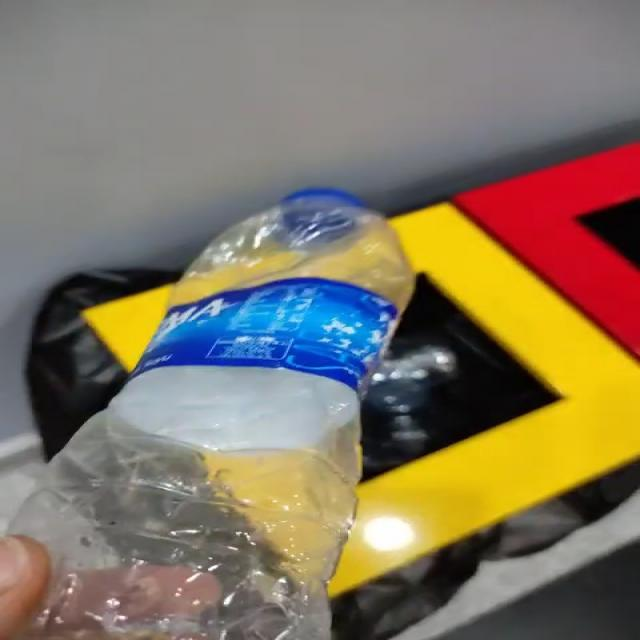plastic: (11, 189, 415, 640)
